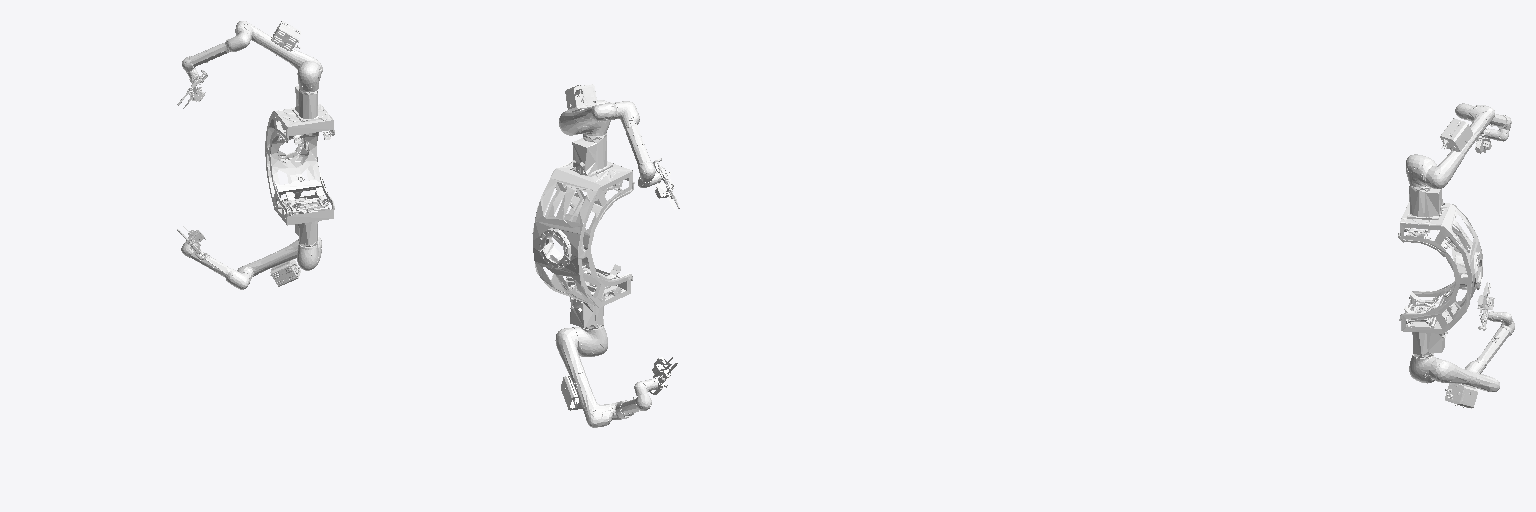
The robot description file, URDF, robot "robot":
<robot name="robot" version="1.0">
  <joint name="arm1-wrist1_link_joint" type="revolute">
    <limit lower="-3.14000" upper="3.14000" effort="0.00000" velocity="0.00000"/>
    <origin rpy="0.00000 0.00000 0.00000" xyz="-0.00610 -0.20361 1.72510"/>
    <parent link="base_link"/>
    <child link="arm1-wrist1_link"/>
    <axis xyz="0.00000 0.00000 1.00000"/>
  </joint>
  <joint name="arm1-lower-arm_link_joint" type="revolute">
    <limit lower="-3.14000" upper="3.14000" effort="0.00000" velocity="0.00000"/>
    <origin rpy="0.00000 0.00000 0.00000" xyz="0.20740 0.24927 0.19751"/>
    <parent link="arm1-wrist1_link"/>
    <child link="arm1-lower-arm_link"/>
    <axis xyz="-0.64380 -0.76499 -0.01767"/>
  </joint>
  <joint name="arm2-wrist3_link_joint" type="revolute">
    <limit lower="-3.14000" upper="3.14000" effort="0.00000" velocity="0.00000"/>
    <origin rpy="0.00000 -0.00000 -0.00000" xyz="-0.58435 0.49341 0.55420"/>
    <parent link="arm2-upper-arm_link"/>
    <child link="arm2-wrist3_link"/>
    <axis xyz="-0.45622 0.27878 -0.84507"/>
  </joint>
  <joint name="arm2-tool_link_joint" type="revolute">
    <limit lower="-3.14000" upper="3.14000" effort="0.00000" velocity="0.00000"/>
    <origin rpy="0.00000 0.00000 0.00000" xyz="-0.01782 -0.27490 0.10498"/>
    <parent link="arm2-wrist3_link"/>
    <child link="arm2-tool_link"/>
    <axis xyz="0.36743 0.92929 0.03775"/>
  </joint>
  <joint name="base_jointA" type="fixed">
    <origin rpy="-3.14159 -0.00000 -1.74533" xyz="0.00000 0.00000 -1.3000"/>
    <parent link="base_link"/>
    <child link="base_frameA_link"/>
  </joint>
  <joint name="base_jointB" type="fixed">
    <origin rpy="0.00000 0.00000 -1.74533" xyz="0.00000 0.00000 1.3000"/>
    <parent link="base_link"/>
    <child link="base_frameB_link"/>
  </joint>
  <joint name="arm1-wrist2_link_joint" type="revolute">
    <limit lower="-3.14000" upper="3.14000" effort="0.00000" velocity="0.00000"/>
    <origin rpy="0.00000 0.00000 0.00000" xyz="-1.14014 0.65820 0.73462"/>
    <parent link="arm1-lower-arm_link"/>
    <child link="arm1-wrist2_link"/>
    <axis xyz="-0.64380 -0.76499 -0.01767"/>
  </joint>
  <joint name="arm1-upper-arm_link_joint" type="revolute">
    <limit lower="-3.14000" upper="3.14000" effort="0.00000" velocity="0.00000"/>
    <origin rpy="0.00000 0.00000 0.00000" xyz="-0.31274 0.11475 -0.17261"/>
    <parent link="arm1-wrist2_link"/>
    <child link="arm1-upper-arm_link"/>
    <axis xyz="0.67366 -0.55817 0.48439"/>
  </joint>
  <joint name="arm1-wrist3_link_joint" type="revolute">
    <limit lower="-3.14000" upper="3.14000" effort="0.00000" velocity="0.00000"/>
    <origin rpy="0.00000 0.00000 0.00000" xyz="-0.58191 0.50342 -0.54785"/>
    <parent link="arm1-upper-arm_link"/>
    <child link="arm1-wrist3_link"/>
    <axis xyz="-0.46355 0.18542 0.86645"/>
  </joint>
  <joint name="arm1-tool_link_joint" type="revolute">
    <limit lower="-3.14000" upper="3.14000" effort="0.00000" velocity="0.00000"/>
    <origin rpy="0.00000 0.00000 -0.00000" xyz="-0.02087 -0.27051 -0.10962"/>
    <parent link="arm1-wrist3_link"/>
    <child link="arm1-tool_link"/>
    <axis xyz="0.34994 0.93677 -0.00136"/>
  </joint>
  <joint name="arm2-wrist1_link_joint" type="revolute">
    <limit lower="-3.14000" upper="3.14000" effort="0.00000" velocity="0.00000"/>
    <origin rpy="0.00000 0.00000 0.00000" xyz="0.01807 -0.14331 -1.71436"/>
    <parent link="base_link"/>
    <child link="arm2-wrist1_link"/>
    <axis xyz="0.01446 -0.00936 0.99985"/>
  </joint>
  <joint name="arm2-lower-arm_link_joint" type="revolute">
    <limit lower="-3.14000" upper="3.14000" effort="0.00000" velocity="0.00000"/>
    <origin rpy="-0.00000 0.00000 -0.00000" xyz="0.20984 0.25317 -0.18652"/>
    <parent link="arm2-wrist1_link"/>
    <child link="arm2-lower-arm_link"/>
    <axis xyz="-0.63144 -0.77543 0.00000"/>
  </joint>
  <joint name="arm2-wrist2_link_joint" type="revolute">
    <limit lower="-3.14000" upper="3.14000" effort="0.00000" velocity="0.00000"/>
    <origin rpy="-0.00000 0.00000 -0.00000" xyz="-1.12976 0.68237 -0.72754"/>
    <parent link="arm2-lower-arm_link"/>
    <child link="arm2-wrist2_link"/>
    <axis xyz="-0.63144 -0.77543 0.00000"/>
  </joint>
  <joint name="arm2-upper-arm_link_joint" type="revolute">
    <limit lower="-3.14000" upper="3.14000" effort="0.00000" velocity="0.00000"/>
    <origin rpy="-0.00000 0.00000 -0.00000" xyz="-0.32092 0.09888 0.17334"/>
    <parent link="arm2-wrist2_link"/>
    <child link="arm2-upper-arm_link"/>
    <axis xyz="0.68742 -0.54399 -0.48116"/>
  </joint>
  <link name="base_link">
    <visual name="base">
      <material name="white"/>
      <origin rpy="0.00000 0.00000 0.00000" xyz="0.00000 0.00000 0.00000"/>
      <geometry>
        <mesh filename="../meshes/stl/base_link.stl" scale="1.00000 1.00000 1.00000"/>
      </geometry>
    </visual>
  </link>
  <link name="arm1-wrist1_link">
    <visual name="arm1-wrist1">
      <material name="white"/>
      <origin rpy="0.00000 0.00000 0.00000" xyz="0.00000 0.00000 0.00000"/>
      <geometry>
        <mesh filename="../meshes/stl/arm1-wrist1_link.stl" scale="1.00000 1.00000 1.00000"/>
      </geometry>
    </visual>
  </link>
  <link name="arm2-upper-arm_link">
    <visual name="arm2-upper-arm">
      <material name="white"/>
      <origin rpy="0.00000 -0.00000 -0.00000" xyz="0.00012 0.00000 0.00000"/>
      <geometry>
        <mesh filename="../meshes/stl/arm2-upper-arm_link.stl" scale="1.00000 1.00000 1.00000"/>
      </geometry>
    </visual>
  </link>
  <link name="arm2-wrist3_link">
    <visual name="arm2-wrist3">
      <material name="white"/>
      <origin rpy="0.00000 0.00000 0.00000" xyz="0.00012 0.00000 -0.00000"/>
      <geometry>
        <mesh filename="../meshes/stl/arm2-wrist3_link.stl" scale="1.00000 1.00000 1.00000"/>
      </geometry>
    </visual>
  </link>
  <link name="arm2-tool_link">
    <visual name="arm2-tool">
      <material name="white"/>
      <origin rpy="-0.00000 -0.00000 0.00000" xyz="0.00012 -0.00024 0.00000"/>
      <geometry>
        <mesh filename="../meshes/stl/arm2-tool_link.stl" scale="1.00000 1.00000 1.00000"/>
      </geometry>
    </visual>
  </link>
  <link name="base_frameA_link"/>
  <link name="base_frameB_link"/>
  <link name="arm1-lower-arm_link">
    <visual name="arm1-lower-arm">
      <material name="white"/>
      <origin rpy="0.00000 0.00000 0.00000" xyz="0.00000 0.00024 0.00000"/>
      <geometry>
        <mesh filename="../meshes/stl/arm1-lower-arm_link.stl" scale="1.00000 1.00000 1.00000"/>
      </geometry>
    </visual>
  </link>
  <link name="arm1-wrist2_link">
    <visual name="arm1-wrist2">
      <material name="white"/>
      <origin rpy="0.00000 0.00000 0.00000" xyz="0.00000 0.00000 0.00000"/>
      <geometry>
        <mesh filename="../meshes/stl/arm1-wrist2_link.stl" scale="1.00000 1.00000 1.00000"/>
      </geometry>
    </visual>
  </link>
  <link name="arm1-upper-arm_link">
    <visual name="arm1-upper-arm">
      <material name="white"/>
      <origin rpy="0.00000 0.00000 0.00000" xyz="0.00000 -0.00000 0.00000"/>
      <geometry>
        <mesh filename="../meshes/stl/arm1-upper-arm_link.stl" scale="1.00000 1.00000 1.00000"/>
      </geometry>
    </visual>
  </link>
  <link name="arm1-wrist3_link">
    <visual name="arm1-wrist3">
      <material name="white"/>
      <origin rpy="0.00000 0.00000 -0.00000" xyz="-0.00012 0.00024 -0.00000"/>
      <geometry>
        <mesh filename="../meshes/stl/arm1-wrist3_link.stl" scale="1.00000 1.00000 1.00000"/>
      </geometry>
    </visual>
  </link>
  <link name="arm1-tool_link">
    <visual name="arm1-tool">
      <material name="white"/>
      <origin rpy="0.00000 -0.00000 -0.00000" xyz="-0.00000 0.00024 -0.00000"/>
      <geometry>
        <mesh filename="../meshes/stl/arm1-tool_link.stl" scale="1.00000 1.00000 1.00000"/>
      </geometry>
    </visual>
  </link>
  <link name="arm2-wrist1_link">
    <visual name="arm2-wrist1">
      <material name="white"/>
      <origin rpy="-0.00000 0.00000 -0.00000" xyz="0.00000 0.00000 0.00000"/>
      <geometry>
        <mesh filename="../meshes/stl/arm2-wrist1_link.stl" scale="1.00000 1.00000 1.00000"/>
      </geometry>
    </visual>
  </link>
  <link name="arm2-lower-arm_link">
    <visual name="arm2-lower-arm">
      <material name="white"/>
      <origin rpy="-0.00000 0.00000 -0.00000" xyz="0.00012 0.00000 0.00024"/>
      <geometry>
        <mesh filename="../meshes/stl/arm2-lower-arm_link.stl" scale="1.00000 1.00000 1.00000"/>
      </geometry>
    </visual>
  </link>
  <link name="arm2-wrist2_link">
    <visual name="arm2-wrist2">
      <material name="white"/>
      <origin rpy="-0.00000 0.00000 -0.00000" xyz="-0.00000 -0.00000 0.00000"/>
      <geometry>
        <mesh filename="../meshes/stl/arm2-wrist2_link.stl" scale="1.00000 1.00000 1.00000"/>
      </geometry>
    </visual>
  </link>
  <material name="white">
    <color rgba="1.00000 1.00000 1.00000 1.00000"/>
  </material>
</robot>

--- What the picture shows (computed from the rendered views, not written in the file) ---
Views: 3 orthographic renders of the robot side by side, from view 1: azimuth 30°, elevation 25°; view 2: azimuth 150°, elevation 25°; view 3: azimuth 270°, elevation 25°.
Model robot with 15 links and 14 joints (12 revolute, 2 fixed), rooted at base_link, posed every joint at zero.
Links seen in each view (by area): view 1: base_link, arm1-lower-arm_link, arm2-lower-arm_link, arm1-wrist1_link, arm1-upper-arm_link; view 2: base_link, arm2-lower-arm_link, arm1-lower-arm_link, arm1-upper-arm_link, arm2-wrist1_link, arm1-tool_link; view 3: base_link, arm1-lower-arm_link, arm2-lower-arm_link, arm1-wrist1_link, arm2-upper-arm_link, arm2-wrist1_link.
Link boxes in pixels (left/top/right/bottom): base_link: left=265, top=86, right=334, bottom=246; arm1-lower-arm_link: left=235, top=21, right=322, bottom=71; arm2-lower-arm_link: left=237, top=236, right=321, bottom=286; arm1-wrist1_link: left=297, top=61, right=321, bottom=92; arm1-upper-arm_link: left=182, top=43, right=228, bottom=71; base_link: left=532, top=133, right=634, bottom=329; arm2-lower-arm_link: left=555, top=328, right=612, bottom=427; arm1-lower-arm_link: left=559, top=84, right=617, bottom=135; arm1-upper-arm_link: left=625, top=123, right=655, bottom=182; arm2-wrist1_link: left=572, top=326, right=607, bottom=356; arm1-tool_link: left=653, top=158, right=679, bottom=209; base_link: left=1398, top=185, right=1482, bottom=357; arm1-lower-arm_link: left=1426, top=105, right=1494, bottom=188; arm2-lower-arm_link: left=1429, top=359, right=1499, bottom=408; arm1-wrist1_link: left=1406, top=154, right=1436, bottom=187; arm2-upper-arm_link: left=1477, top=321, right=1514, bottom=365; arm2-wrist1_link: left=1409, top=354, right=1438, bottom=383.
Bounding box of the posed robot: 4.24 × 8.5 × 6.32 m (x, y, z).
Meshes: 13 distinct files referenced, 13 mesh visuals loaded (13 binary STL).